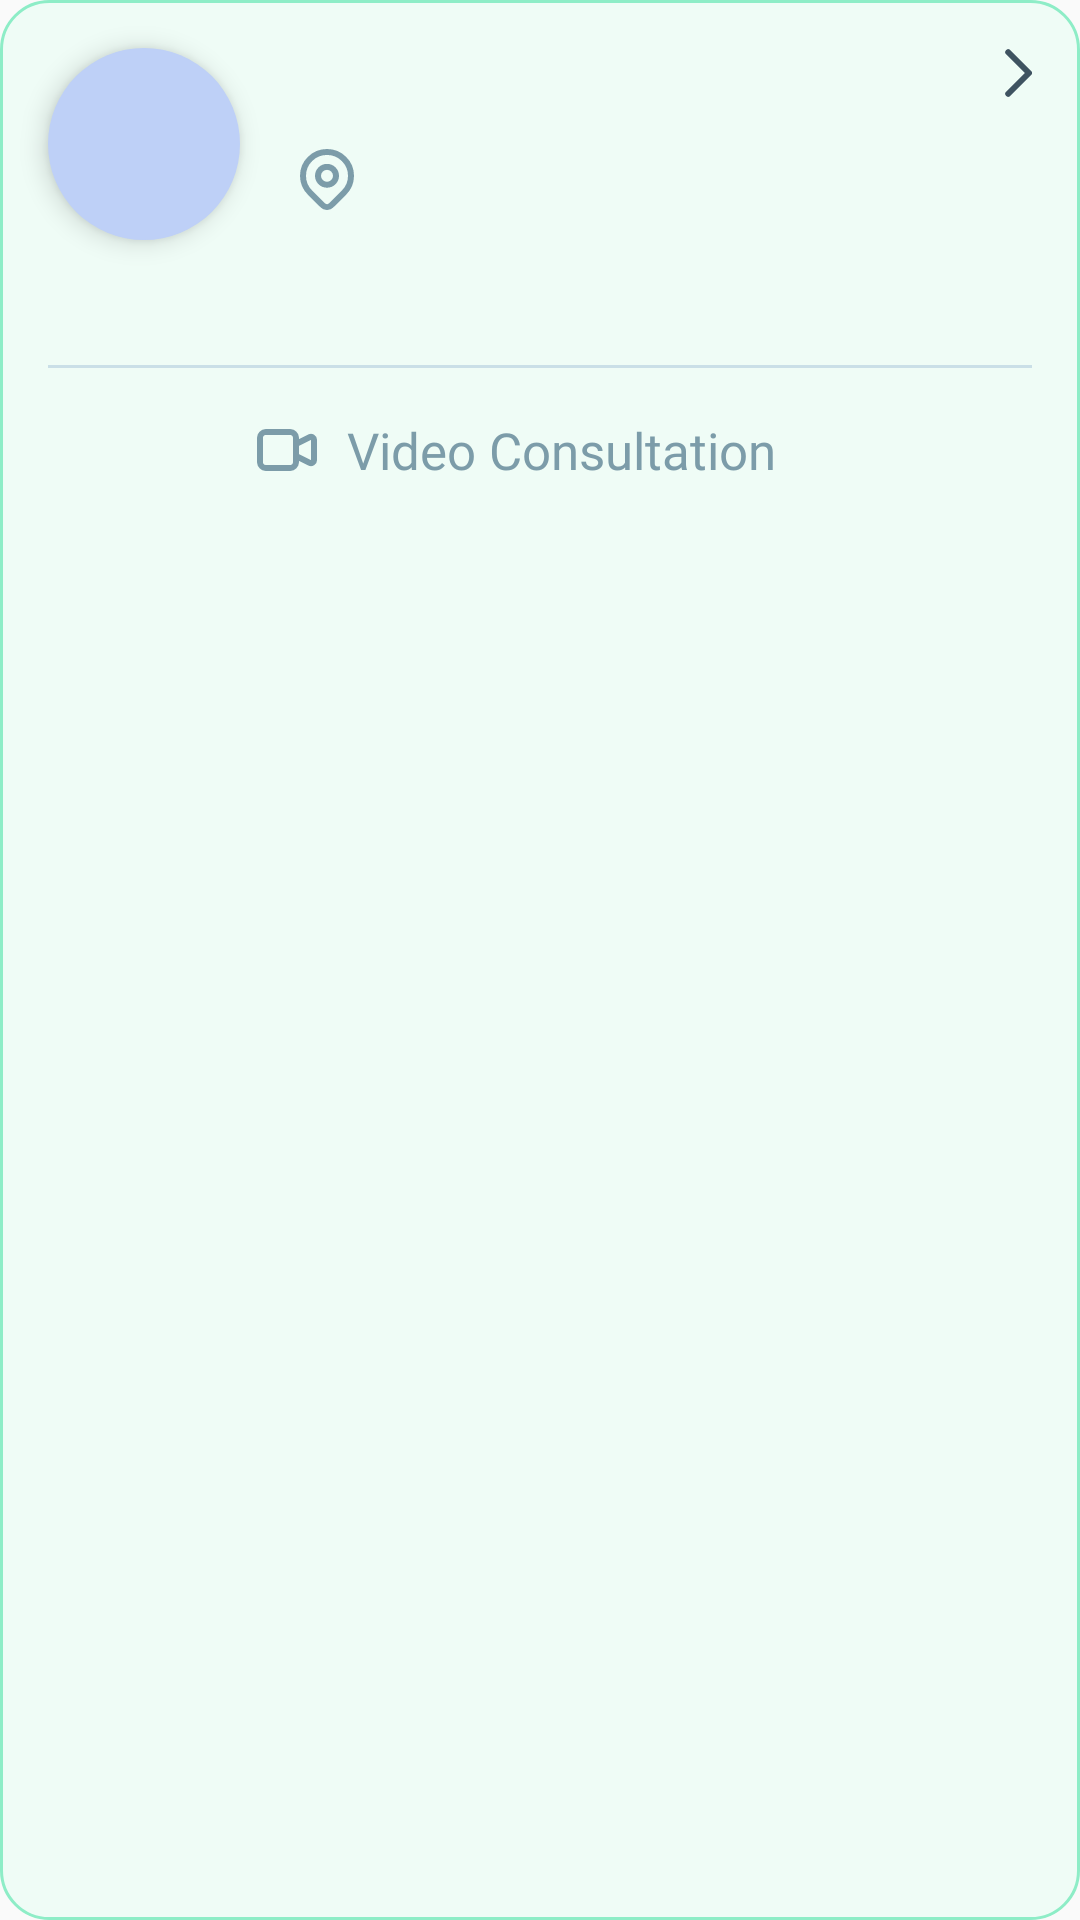

Icon click points for this 1080×1920 phone screenshot, format (x=x, y=y):
chevron right: (x=1018, y=73)
location pin: (x=327, y=179)
video call: (x=287, y=450)
